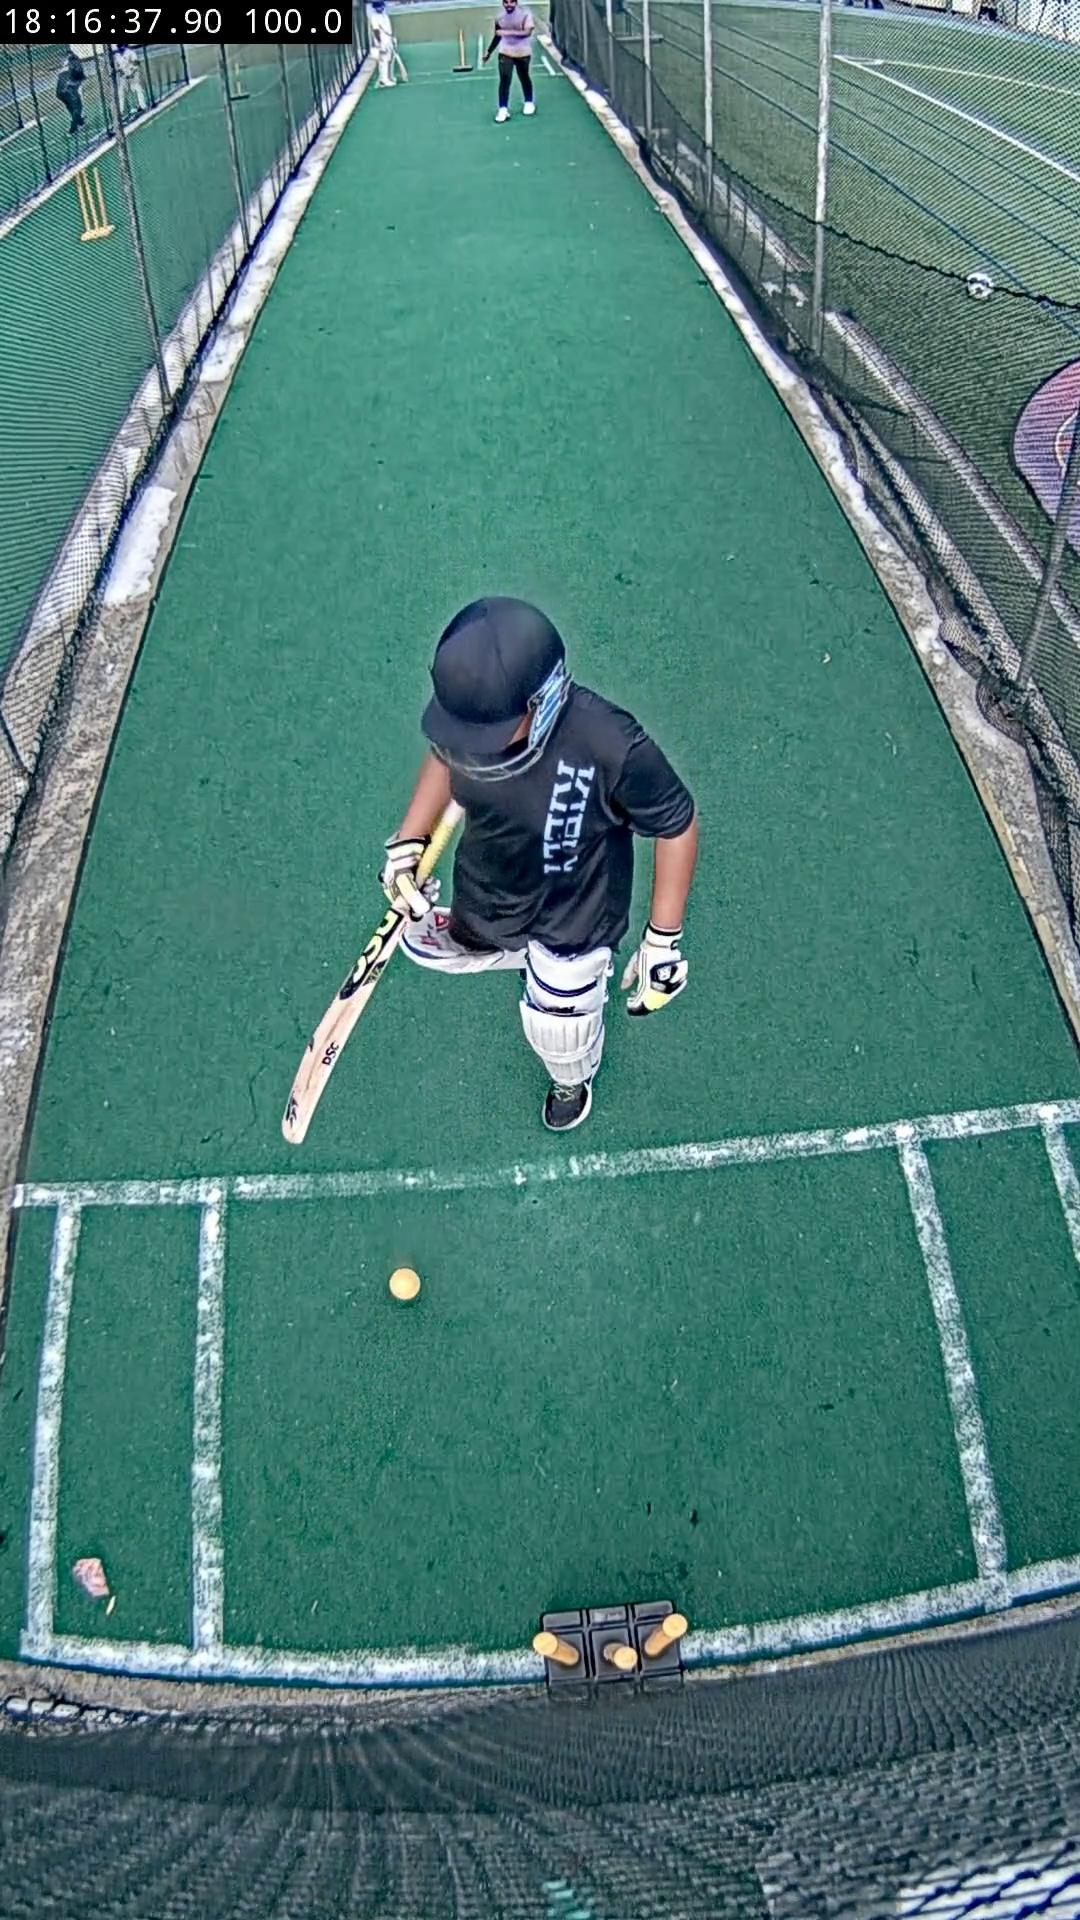ball: (390, 1267, 419, 1302)
bat: (281, 899, 409, 1143), (417, 803, 465, 881)
gloves: (622, 923, 686, 1017), (378, 836, 431, 916)
helmet: (423, 596, 574, 783)
pads: (401, 907, 525, 975), (521, 997, 604, 1088)
stumps: (533, 1601, 686, 1695)
